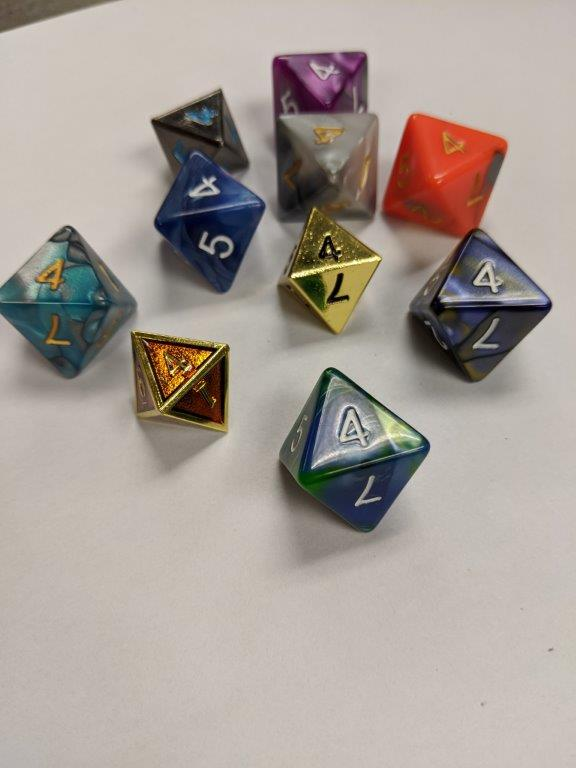d8-4: (277, 365, 431, 533), (410, 225, 553, 387), (1, 220, 134, 377), (380, 112, 510, 240), (153, 151, 265, 290), (273, 204, 383, 332), (274, 108, 378, 217), (129, 327, 231, 438), (152, 86, 253, 183), (272, 53, 368, 119)
